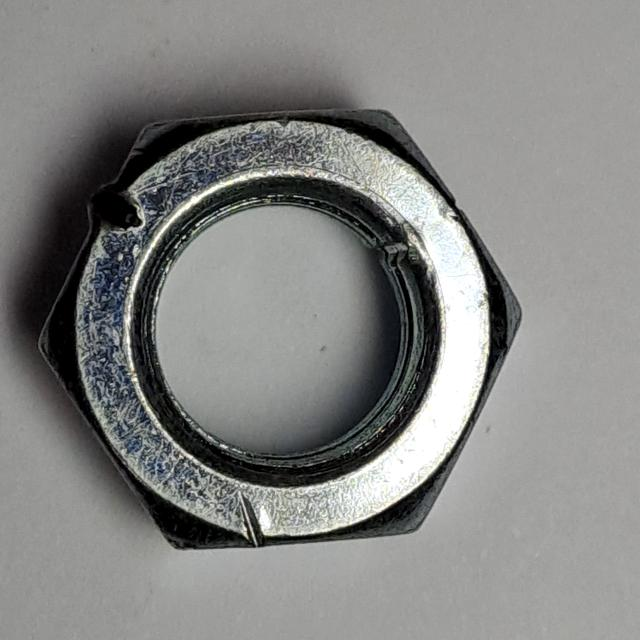Scratches: (25, 96, 535, 572)
